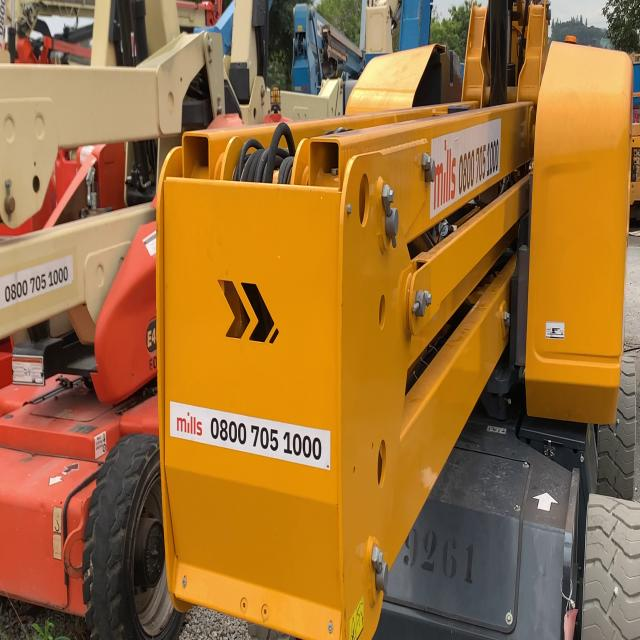Adesivo Longo: (169, 400, 331, 471), (430, 117, 502, 222)
